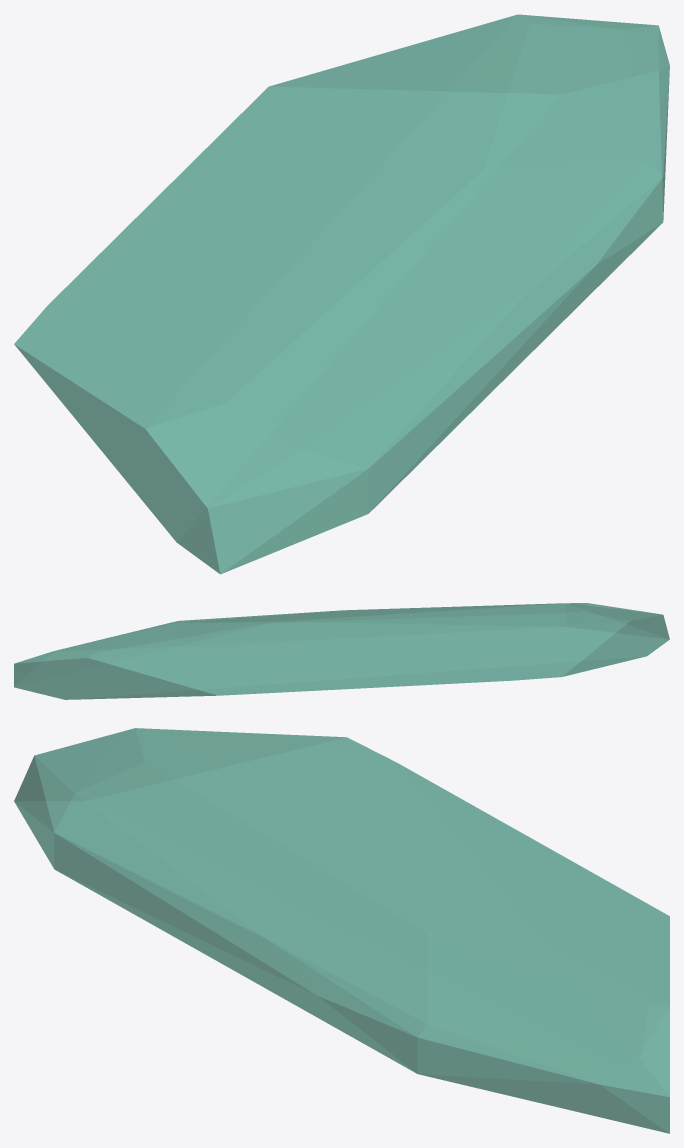
3 renders of one model, top to bottom at view 1: azimuth 30°, elevation 25°; view 2: azimuth 150°, elevation 25°; view 3: azimuth 270°, elevation 25°, orthographic. The views are drawn at different scales.
Parts seen in each view (by area): view 1: Shape_IndexedFaceSet.033_Shape_IndexedFaceSet.5924; view 2: Shape_IndexedFaceSet.033_Shape_IndexedFaceSet.5924; view 3: Shape_IndexedFaceSet.033_Shape_IndexedFaceSet.5924.
Boxes of the visible parts, box(x1,y1,x2,y2) form: Shape_IndexedFaceSet.033_Shape_IndexedFaceSet.5924: box(14, 14, 669, 574); Shape_IndexedFaceSet.033_Shape_IndexedFaceSet.5924: box(14, 603, 669, 699); Shape_IndexedFaceSet.033_Shape_IndexedFaceSet.5924: box(14, 728, 669, 1133).
Bounding box in the file's own units: 0.1537 × 0.0158 × 0.1281.
